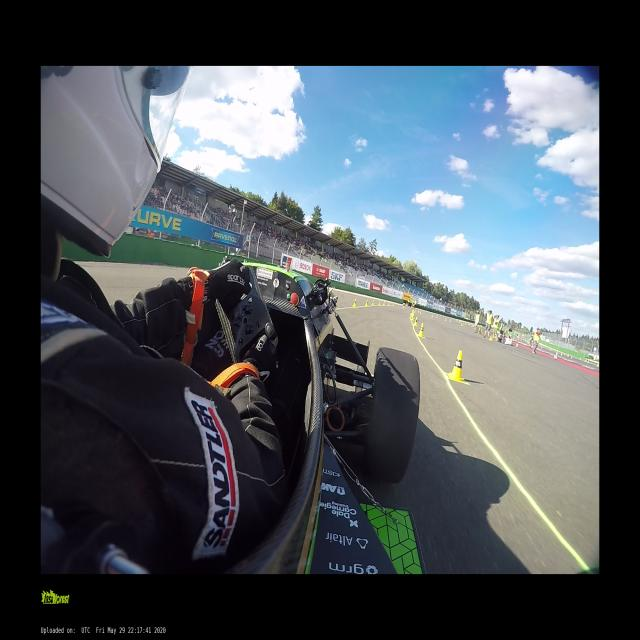yellow_cone: (447, 350, 465, 382), (418, 322, 424, 338), (352, 298, 357, 307), (414, 317, 418, 325), (365, 299, 368, 307), (378, 301, 381, 305), (372, 300, 374, 306), (383, 300, 385, 306), (412, 314, 414, 319), (431, 314, 433, 318), (436, 315, 438, 319), (388, 301, 389, 306)
